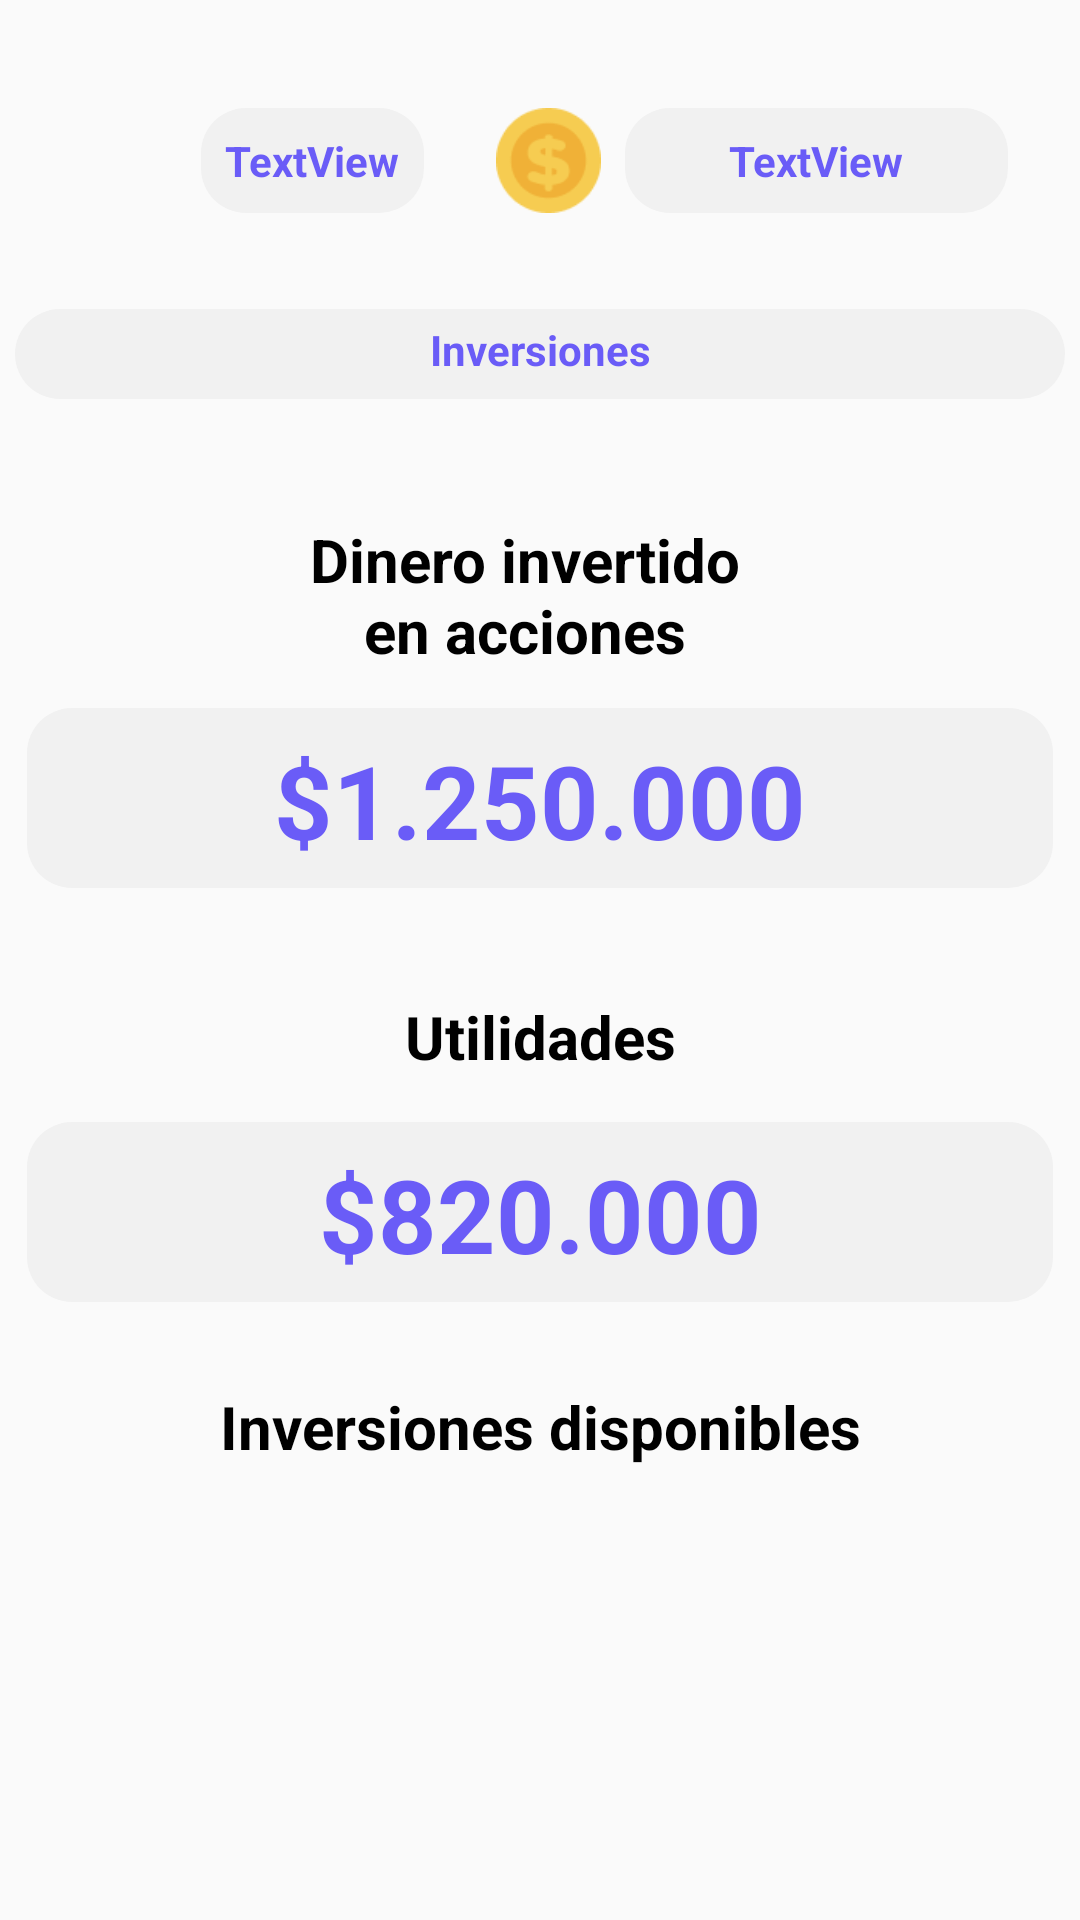

Where to tap for icons on this 1080*1920 app screen, as (x=x, y=y):
coin: (x=548, y=160)
